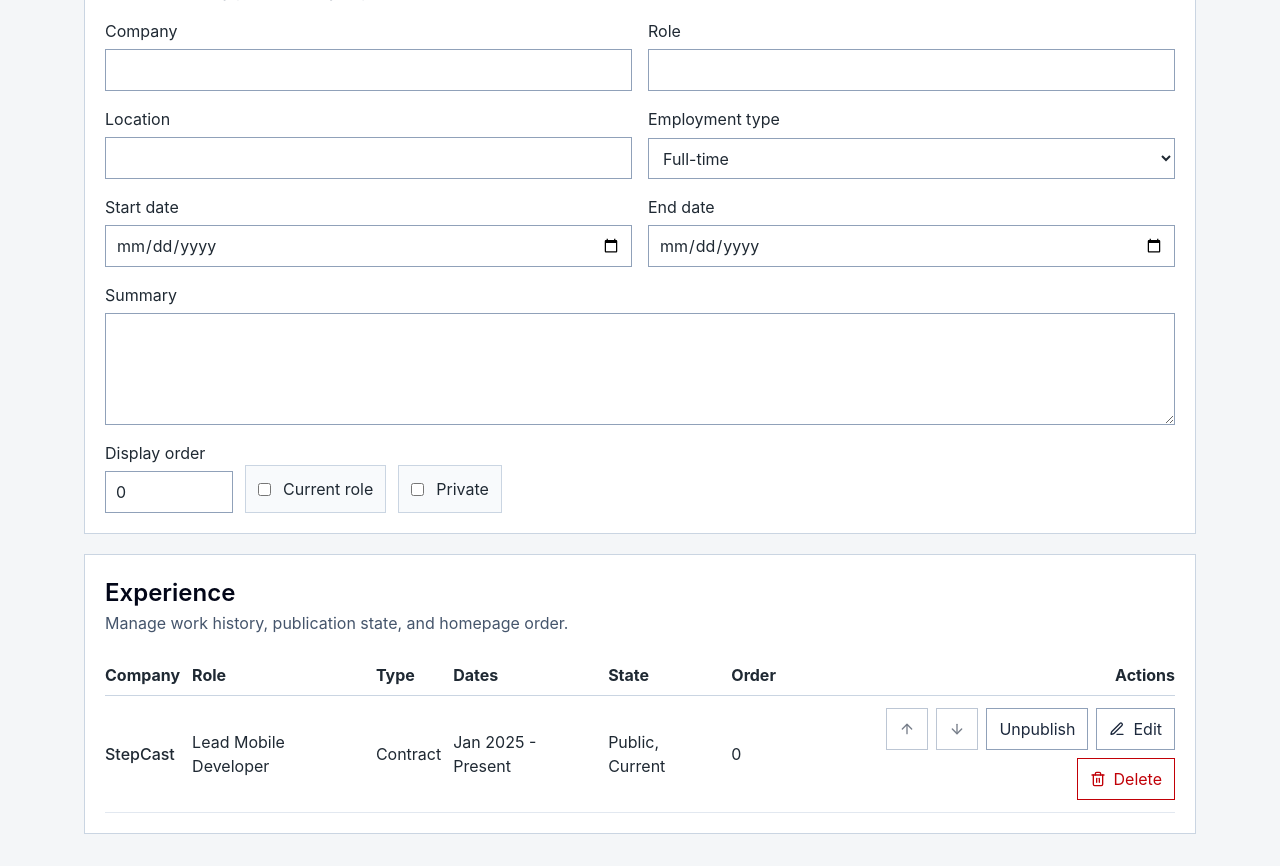
Test case: experience admin › keeps entries visible and displays API errors when deletion or reorder fails
The image size is (1280, 866).
(page scrolled)
Click the button with aria-label "Delete Lead Mobile Developer at StepCast" at (1126, 779), box [1076,758,1175,800]
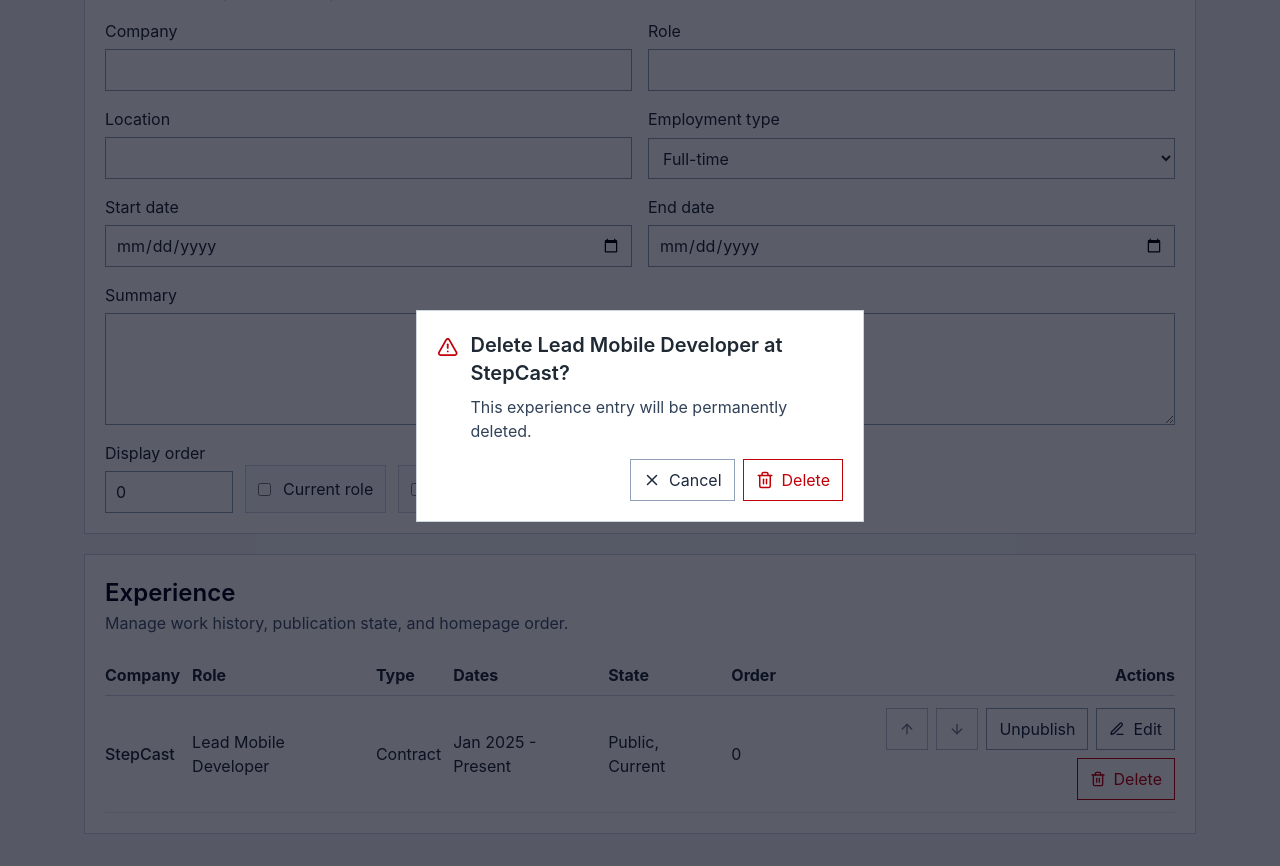
Click the button "Delete" at (793, 480), box [742,459,843,501]
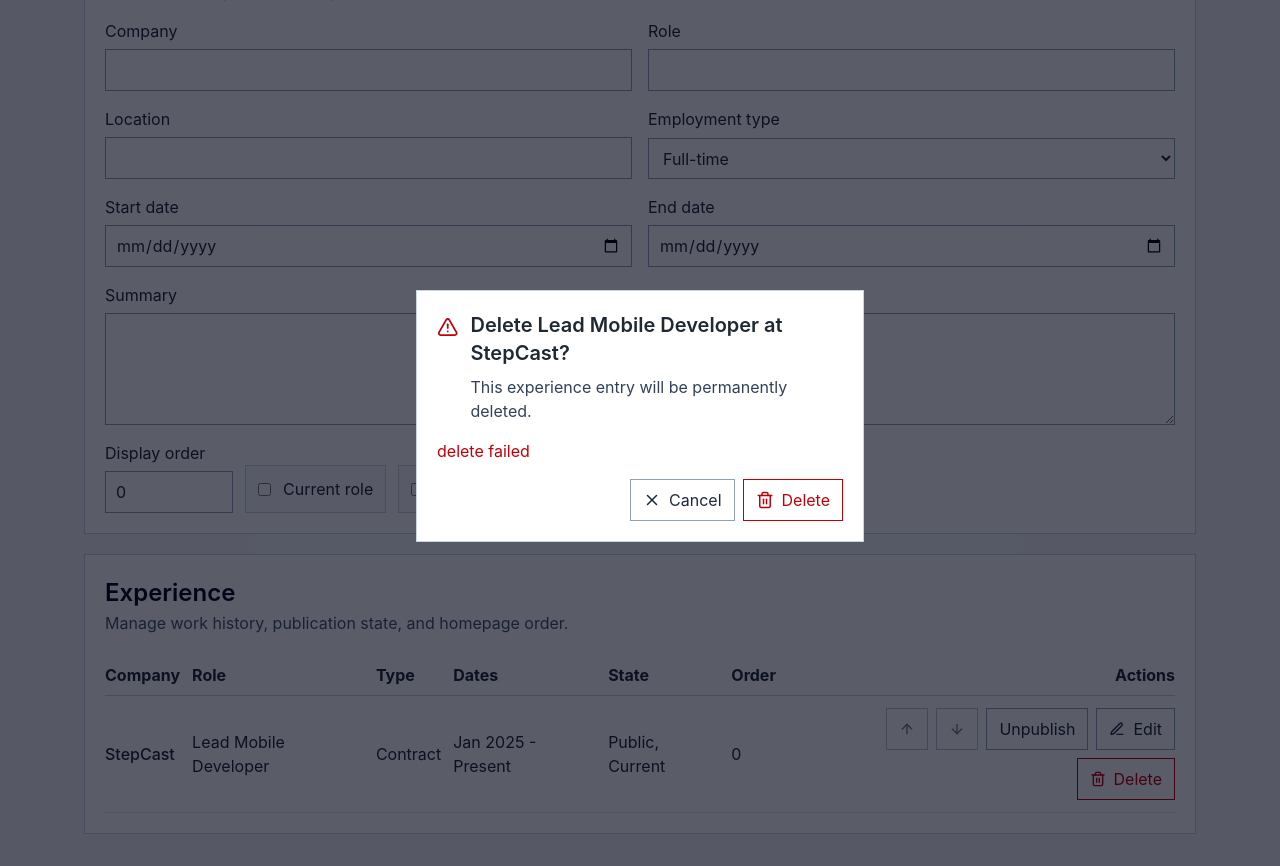
Expected: the text "StepCast" is shown, [105,696,192,812]
Expected: the message reads "delete failed", [437,441,530,461]
